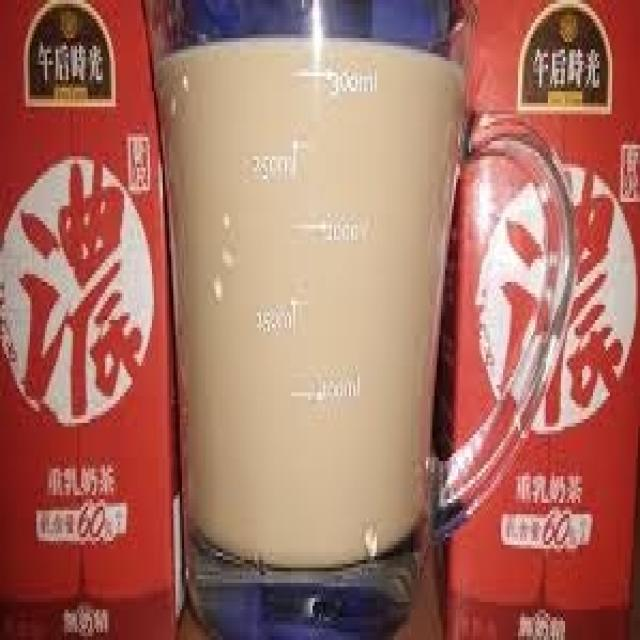Known_MilkTea: (454, 6, 636, 614), (2, 2, 176, 635)
